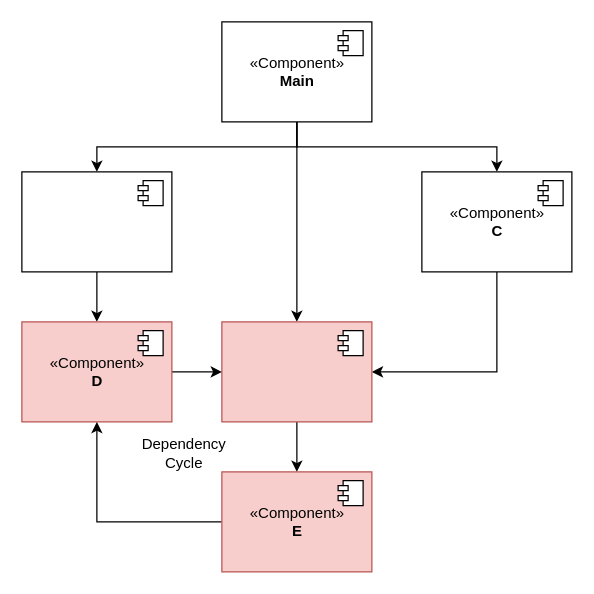
The diagram is 594 pixels wide and 594 high, and some of its shapes have lost their labels. Here are the shapes that lost their labels. From the top down, the centre of each, then its label:
the point at 96,221: «Component» A
the point at 296,371: «Component» B
